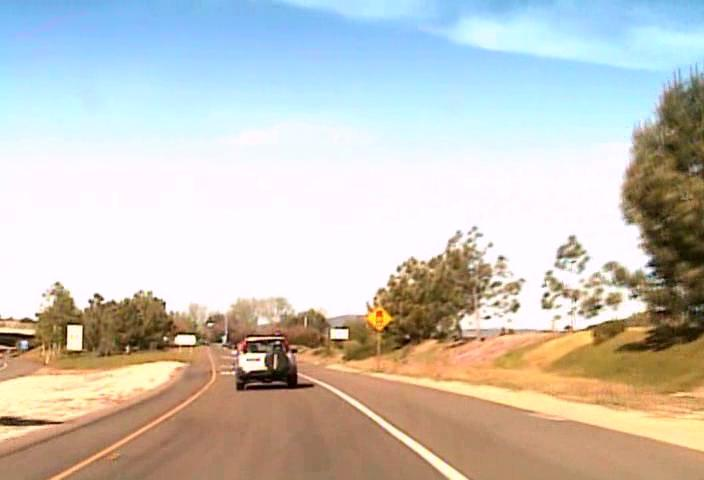signalAhead: (365, 304, 393, 331)
